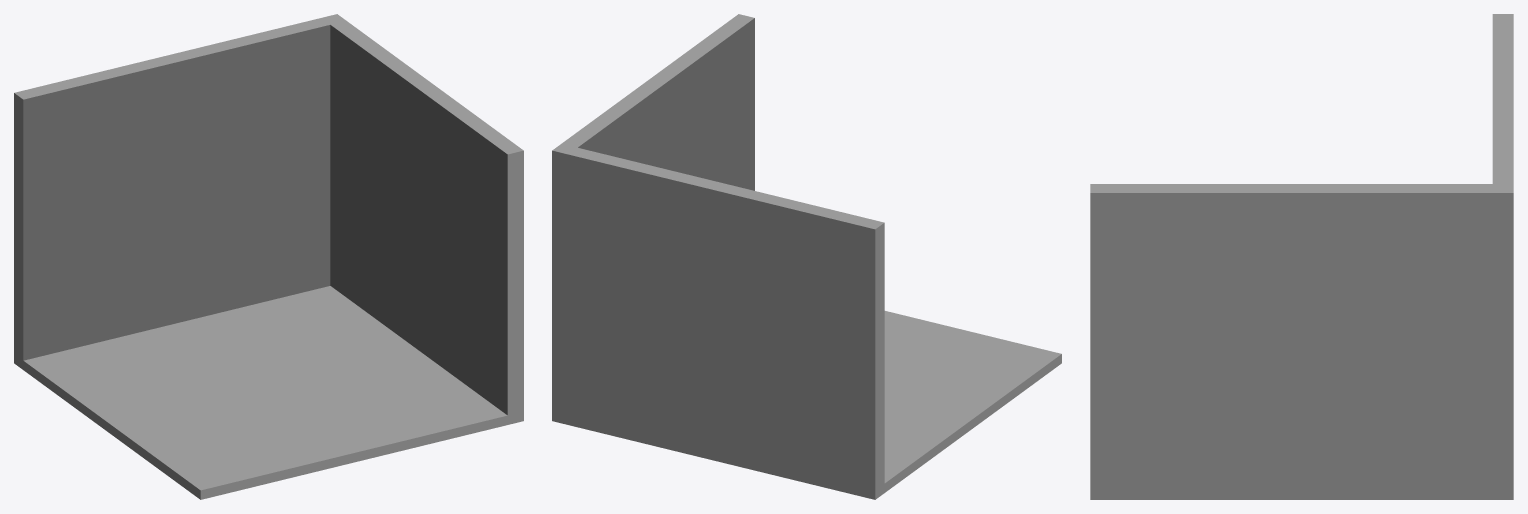
The model's file is Wall_7.fbx.
3 renders of one model, left to right at view 1: azimuth 30°, elevation 25°; view 2: azimuth 150°, elevation 25°; view 3: azimuth 270°, elevation 25°, orthographic. The views are drawn at different scales.
Visible parts, largest first — view 1: Wall_7; view 2: Wall_7; view 3: Wall_7.
Part boxes in pixels (box(x1,y1,x2,y2)): Wall_7: box(14, 14, 523, 499); Wall_7: box(552, 14, 1061, 499); Wall_7: box(1090, 14, 1513, 499).
Bounding box in the file's own units: 3.8 × 3.04 × 3.8.
